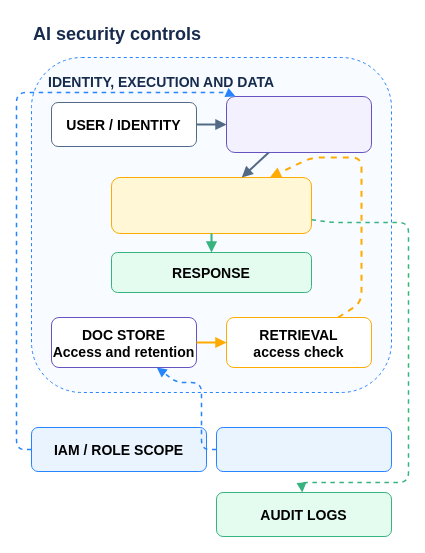
Some shapes in this 425 by 553 pixel diagram are drawn without their labels. The centre of each missing label's shape, as x and y in pixels:
"APP ROLE least privilege" goes at pixel 299 124.
"ENCRYPTION / KMS" goes at pixel 304 449.
"MODEL INVOCATION execution" goes at pixel 211 205.
